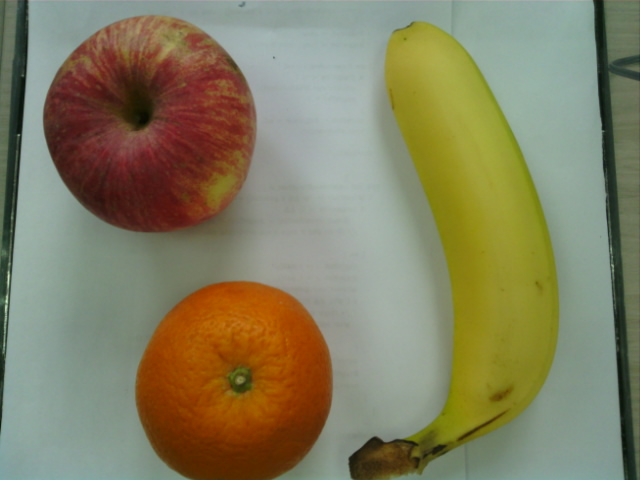fresh_orange: (135, 280, 335, 480)
normal_apple: (43, 17, 256, 234)
normal_banana: (368, 22, 561, 478)
